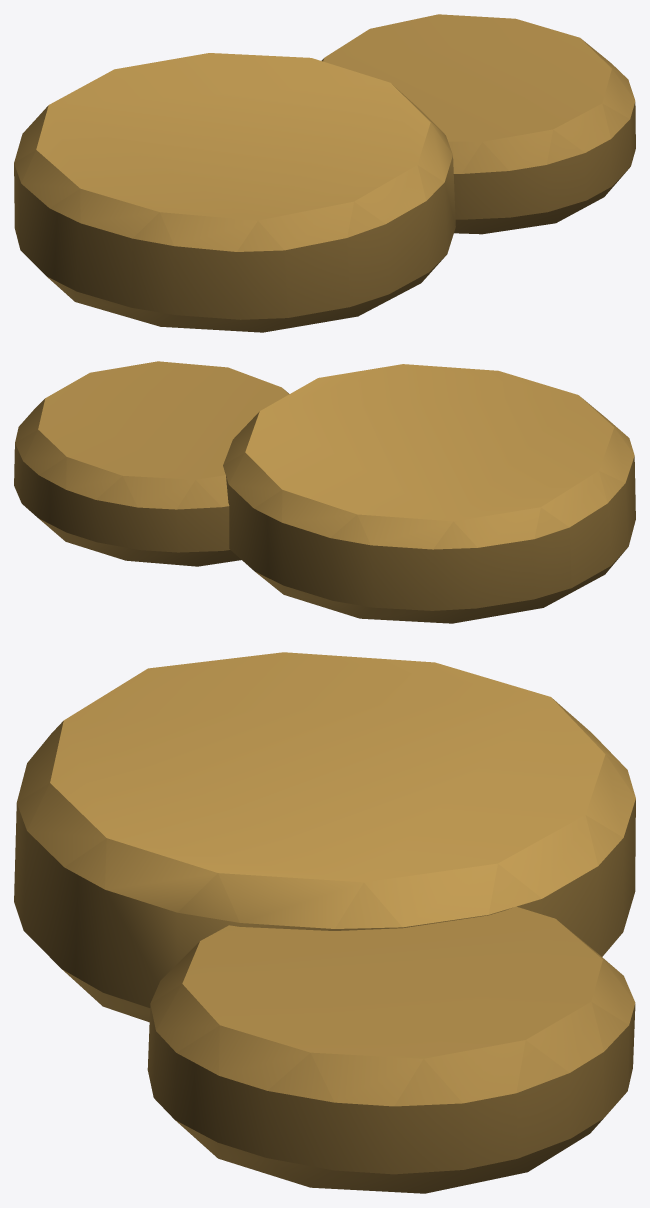
File: ph_item_beeswax.glb
The picture shows the model from 3 angles, top to bottom: view 1: azimuth 30°, elevation 25°; view 2: azimuth 150°, elevation 25°; view 3: azimuth 270°, elevation 25°; orthographic projection. The views are drawn at different scales.
Visible parts, largest first — view 1: ph_item_beeswax; view 2: ph_item_beeswax; view 3: ph_item_beeswax.
Boxes of the visible parts, x1=… form: ph_item_beeswax: x1=14, y1=14, x2=635, y2=332; ph_item_beeswax: x1=14, y1=361, x2=635, y2=623; ph_item_beeswax: x1=14, y1=652, x2=635, y2=1193.
Bounding box in the file's own units: 0.2723 × 0.0533 × 0.1745.
